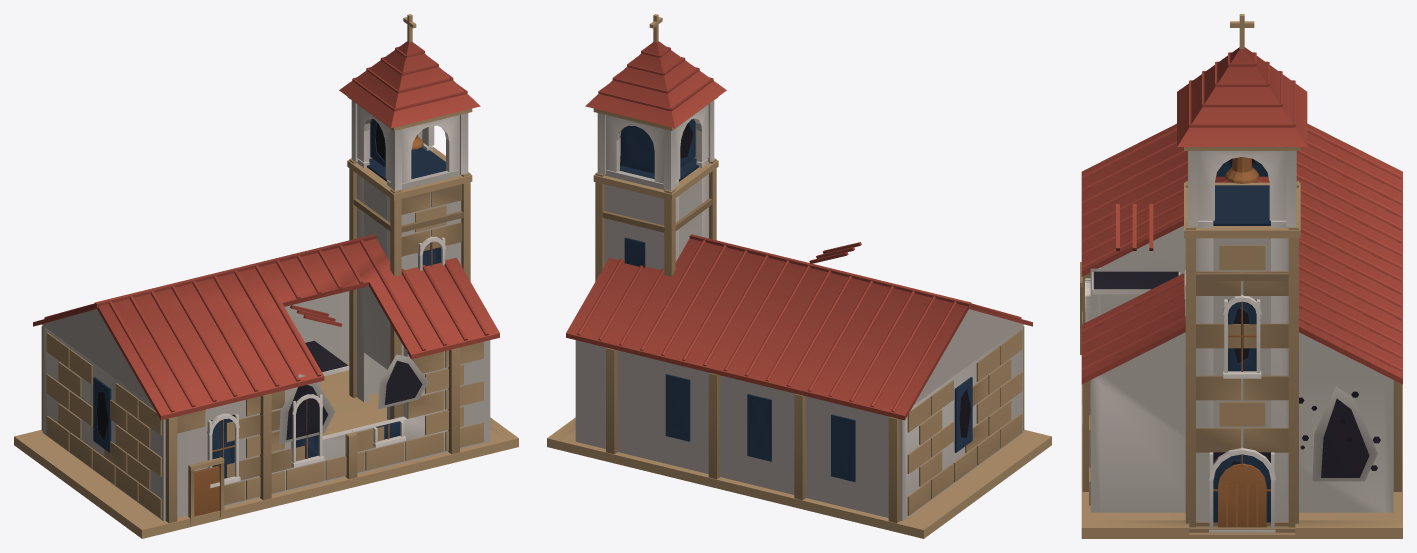
The picture shows the model from 3 angles, left to right: view 1: azimuth 30°, elevation 25°; view 2: azimuth 150°, elevation 25°; view 3: azimuth 270°, elevation 25°; orthographic projection. The views are drawn at different scales.
Visible parts, largest first — view 1: body_pal_khaki, roof_pal_brick, body_pal_picketWhite, body_pal_blueTrim, body_pal_uiDark, body_pal_woodWarm; view 2: roof_pal_brick, body_pal_picketWhite, body_pal_khaki, body_pal_blueTrim, body_pal_uiDark; view 3: roof_pal_brick, body_pal_picketWhite, body_pal_khaki, body_pal_uiDark, body_pal_blueTrim, door_front_pal_woodWarm, body_pal_woodWarm.
Boxes of the visible parts, <box> form: body_pal_khaki: <box>14,14,518,538</box>; roof_pal_brick: <box>33,41,499,420</box>; body_pal_picketWhite: <box>42,100,490,521</box>; body_pal_blueTrim: <box>93,119,446,478</box>; body_pal_uiDark: <box>97,124,422,440</box>; body_pal_woodWarm: <box>194,134,432,516</box>; roof_pal_brick: <box>566,41,1032,420</box>; body_pal_picketWhite: <box>575,100,1023,521</box>; body_pal_khaki: <box>547,14,1051,538</box>; body_pal_blueTrim: <box>619,119,972,481</box>; body_pal_uiDark: <box>680,123,970,437</box>; roof_pal_brick: <box>1081,47,1402,384</box>; body_pal_picketWhite: <box>1082,151,1393,532</box>; body_pal_khaki: <box>1080,14,1402,538</box>; body_pal_uiDark: <box>1093,158,1380,477</box>; body_pal_blueTrim: <box>1213,160,1270,522</box>; door_front_pal_woodWarm: <box>1218,463,1266,527</box>; body_pal_woodWarm: <box>1213,157,1270,491</box>.
Size of the model in its own units: 18 by 18.08 by 10.65.
